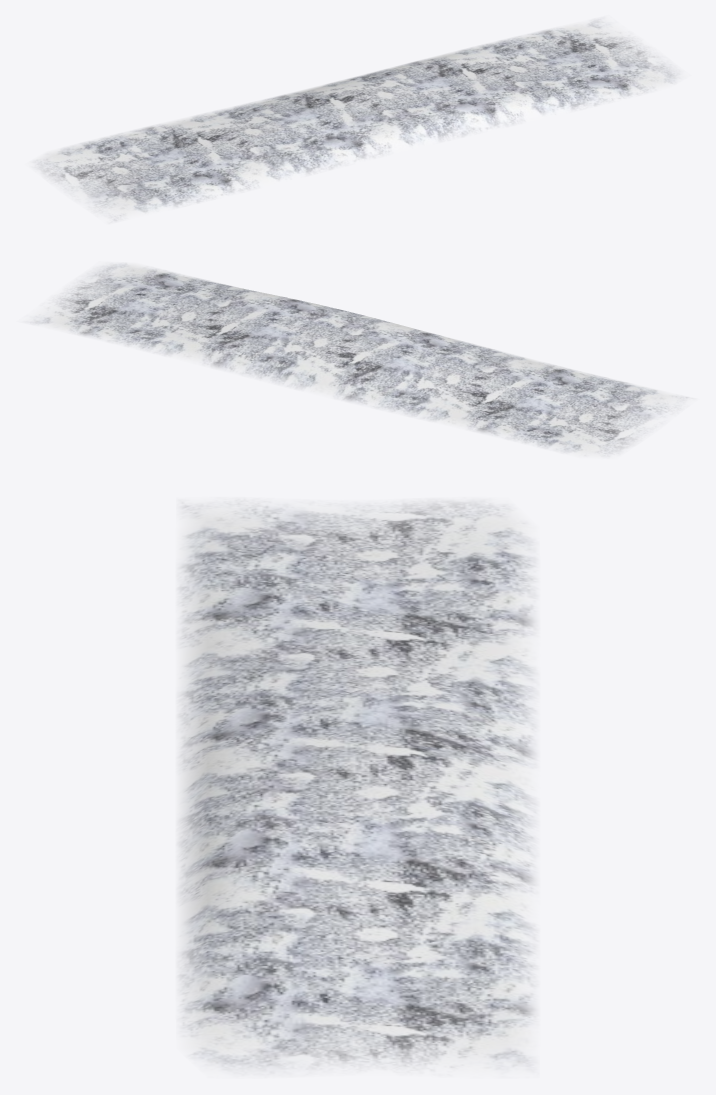
Rendered from snow_drift.glb.
3 renders of one model, top to bottom at view 1: azimuth 30°, elevation 25°; view 2: azimuth 150°, elevation 25°; view 3: azimuth 270°, elevation 25°, orthographic. The views are drawn at different scales.
Visible parts, largest first — view 1: snow_drift; view 2: snow_drift; view 3: snow_drift.
Part boxes in pixels (left/top/right/bottom): snow_drift: left=30, top=17, right=686, bottom=221; snow_drift: left=23, top=262, right=692, bottom=457; snow_drift: left=179, top=501, right=536, bottom=1073.
Size of the model in its own units: 15 by 0.3575 by 4.
1 material, 1 textured.
